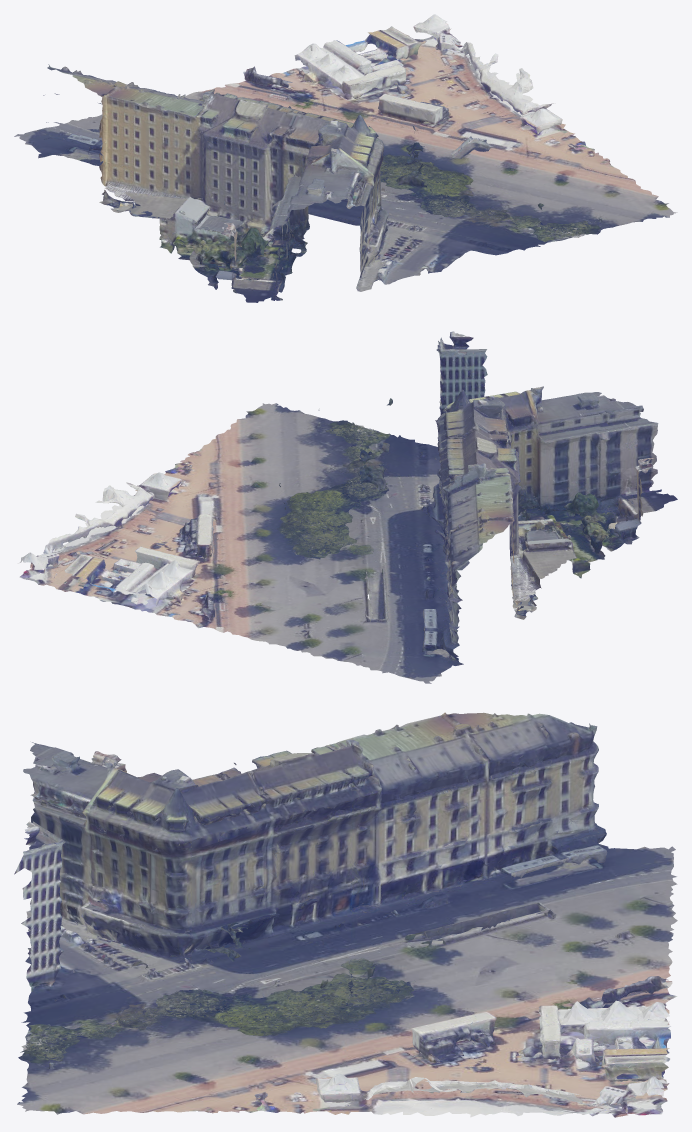
The picture shows the model from 3 angles, top to bottom: view 1: azimuth 30°, elevation 25°; view 2: azimuth 150°, elevation 25°; view 3: azimuth 270°, elevation 25°; orthographic projection. The views are drawn at different scales.
Size of the model in its own units: 104 by 31.14 by 105.
1 material, 1 textured.
